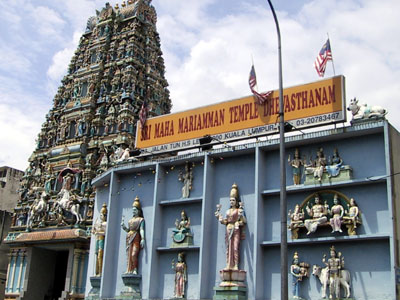Hindu Temple: (26, 1, 172, 264)
